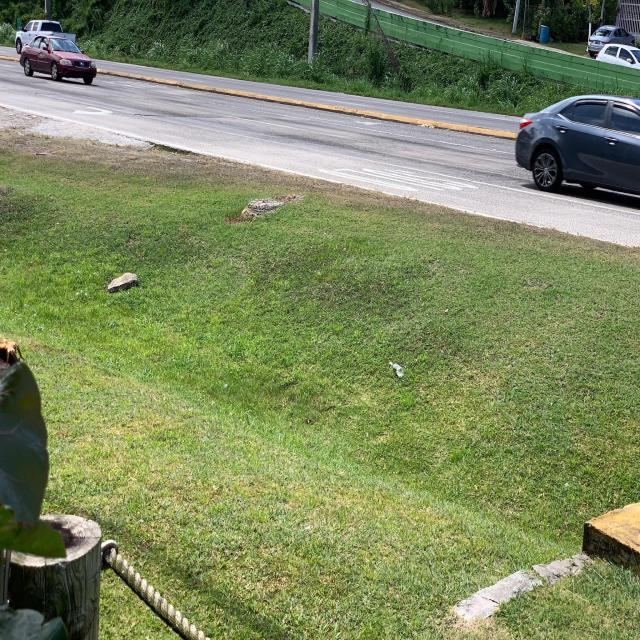litter: (389, 361, 405, 378)
